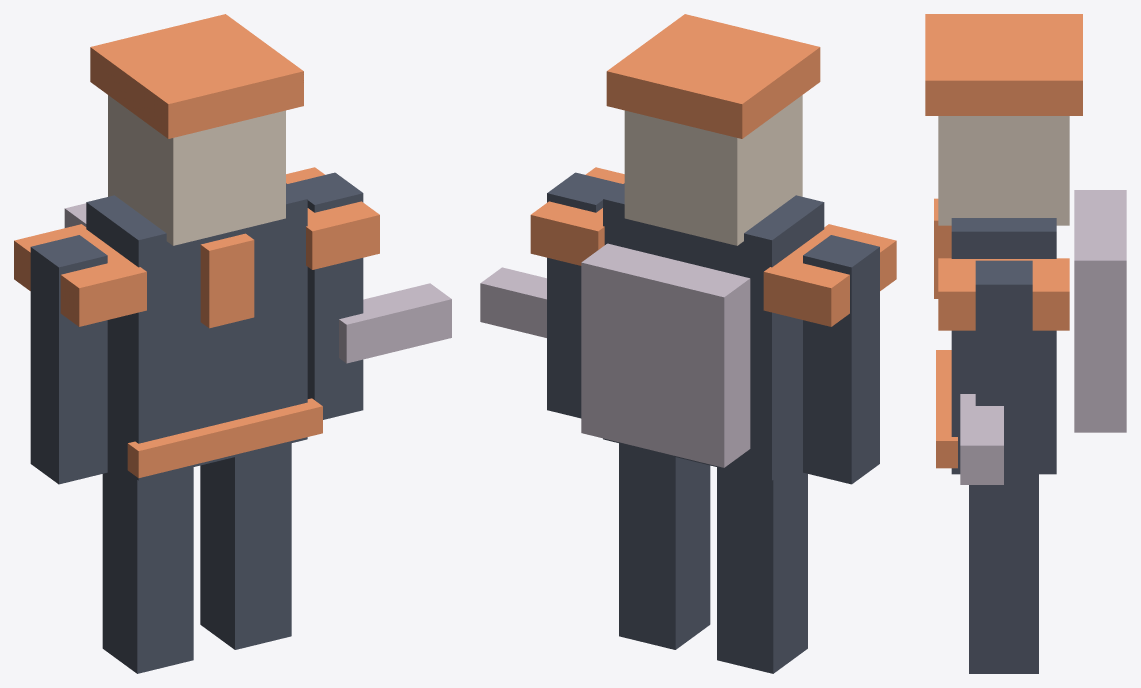
The model's file is 04_keir_runeclasp_scout_under_quantum.glb.
3 views of the same model, side by side, from view 1: azimuth 30°, elevation 25°; view 2: azimuth 150°, elevation 25°; view 3: azimuth 270°, elevation 25° (orthographic).
Visible parts, largest first — view 1: Keir Runeclasp, Scout under Quantum; view 2: Keir Runeclasp, Scout under Quantum; view 3: Keir Runeclasp, Scout under Quantum.
Boxes of the visible parts, left/top/right/bottom form: Keir Runeclasp, Scout under Quantum: left=14, top=14, right=451, bottom=673; Keir Runeclasp, Scout under Quantum: left=480, top=14, right=896, bottom=673; Keir Runeclasp, Scout under Quantum: left=925, top=14, right=1126, bottom=673.
Bounding box in the file's own units: 1.04 × 1.5 × 0.467.
